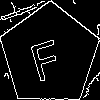F: (24, 30, 66, 83)
